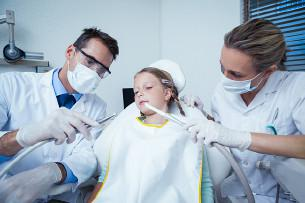NONE: (134, 81, 163, 112)
OK: (70, 53, 112, 95), (219, 60, 264, 95)
